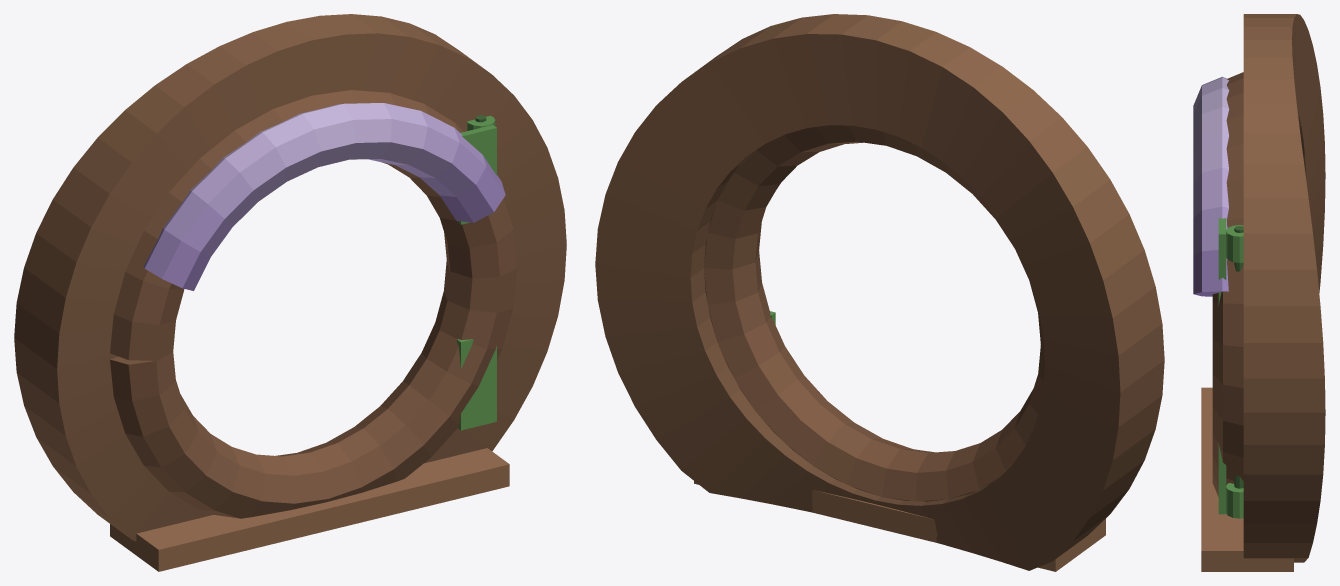
Rendered from goo_jar_door@mushroom.fbx.
The picture shows the model from 3 angles, left to right: view 1: azimuth 30°, elevation 25°; view 2: azimuth 150°, elevation 25°; view 3: azimuth 270°, elevation 25°; orthographic projection. The views are drawn at different scales.
Visible parts, largest first — view 1: goo_jar_door; view 2: goo_jar_door; view 3: goo_jar_door.
Boxes of the visible parts, x1=… form: goo_jar_door: x1=14, y1=14, x2=566, y2=571; goo_jar_door: x1=595, y1=14, x2=1164, y2=571; goo_jar_door: x1=1193, y1=14, x2=1325, y2=571.
Size of the model in its own units: 14.52 by 13.06 by 3.42.
